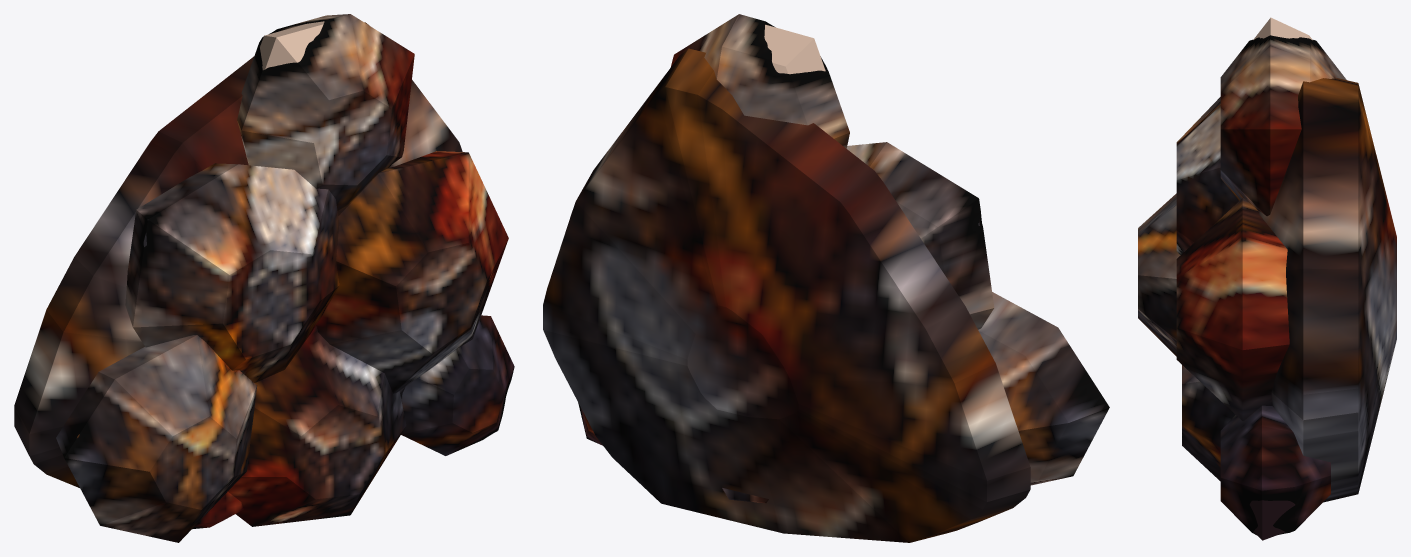
Rendered from raw_iron.obj.
3 views of the same model, side by side, from view 1: azimuth 30°, elevation 25°; view 2: azimuth 150°, elevation 25°; view 3: azimuth 270°, elevation 25° (orthographic). The views are drawn at different scales.
Parts seen in each view (by area): view 1: rock_1, rock_2, rock_3, connected_ore_core, rock_0, rock_4, rock_5, rock_0_undercoat, rock_6; view 2: connected_ore_core, rock_3, rock_1, rock_0, rock_0_undercoat; view 3: connected_ore_core, rock_2, rock_0, rock_5, rock_1, rock_3, rock_4, rock_5_undercoat, rock_0_undercoat.
Part boxes in pixels (x1,y1,x2,y2): rock_1: (125,163,339,382); rock_2: (316,151,508,393); rock_3: (56,335,257,542); connected_ore_core: (14,22,462,487); rock_0: (237,14,414,210); rock_4: (228,326,406,526); rock_5: (401,315,514,455); rock_0_undercoat: (260,21,324,70); rock_6: (192,491,243,529); connected_ore_core: (543,48,1030,542); rock_3: (978,292,1109,485); rock_1: (846,142,994,329); rock_0: (670,14,849,148); rock_0_undercoat: (764,24,825,74); connected_ore_core: (1259,78,1396,502); rock_2: (1176,198,1289,420); rock_0: (1220,35,1346,216); rock_5: (1220,405,1330,535); rock_1: (1176,97,1238,255); rock_3: (1138,193,1180,356); rock_4: (1182,365,1235,481); rock_5_undercoat: (1249,500,1295,540); rock_0_undercoat: (1253,17,1312,40).
Size of the model in its own units: 104 by 101 by 50.54.
Materials: 2 (2 with a texture image).
